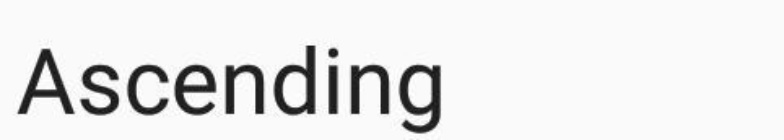TextView: (1, 1, 783, 139)
